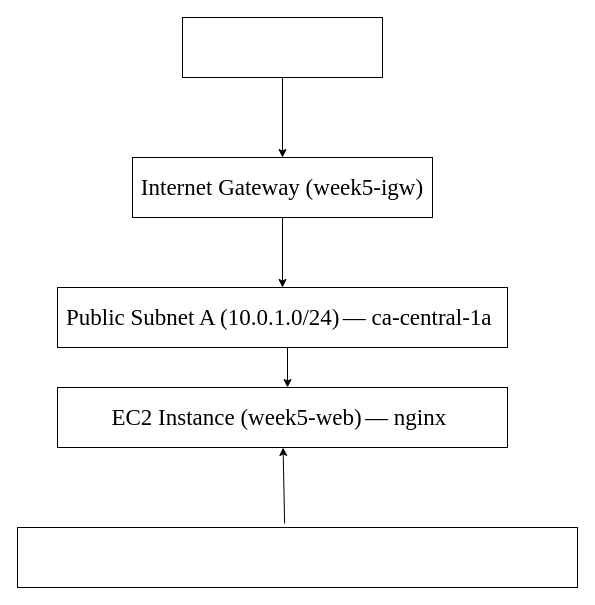
Some shapes in this 595 by 605 pixel diagram are drawn without their labels. Each missing label, with the centre of its shape:
Internet: point 282,47
Security Group (port 80 open, port 22 restricted to your IP): point 297,557
